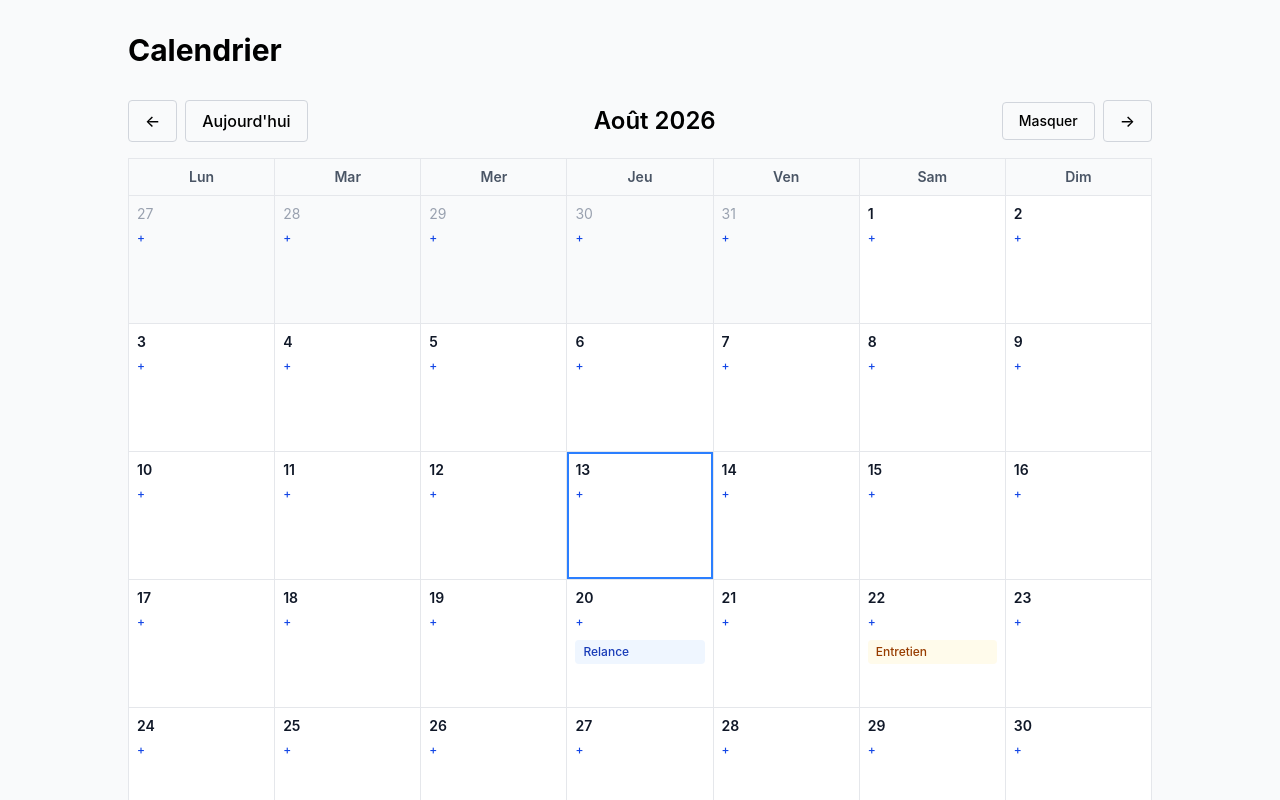
it: CalendarPage › returns to the current month and highlights today
Expected: the heading "août 2026" is shown, [594,105,716,137]
What coordinates should you click on to do the following:
click the button named "Mois suivant"
I would click on:
 (1127, 121)
Its box is [1103,100,1152,142].
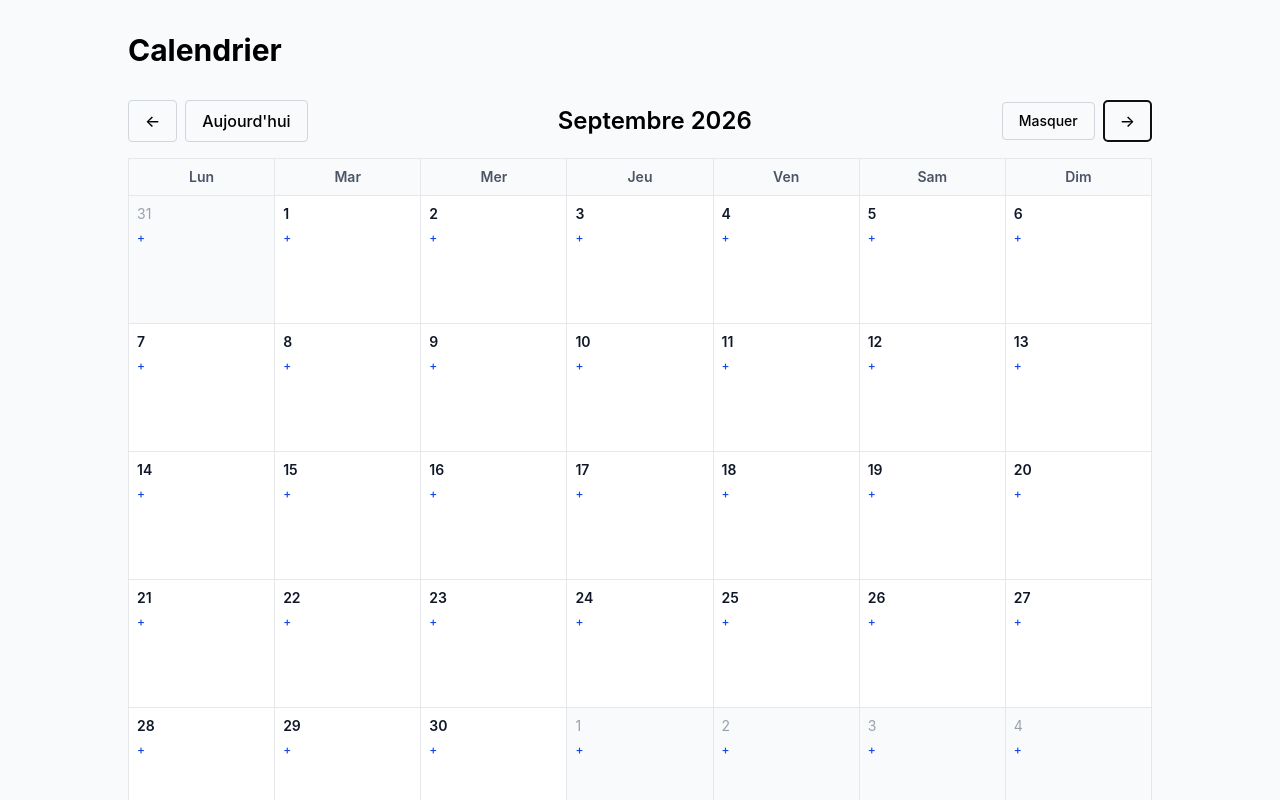
Expected: the heading "septembre 2026" is shown, [558,105,752,137]
What coordinates should you click on to do the following:
click the button "Aujourd'hui"
I would click on:
 (246, 121)
Its box is [185,100,308,142].
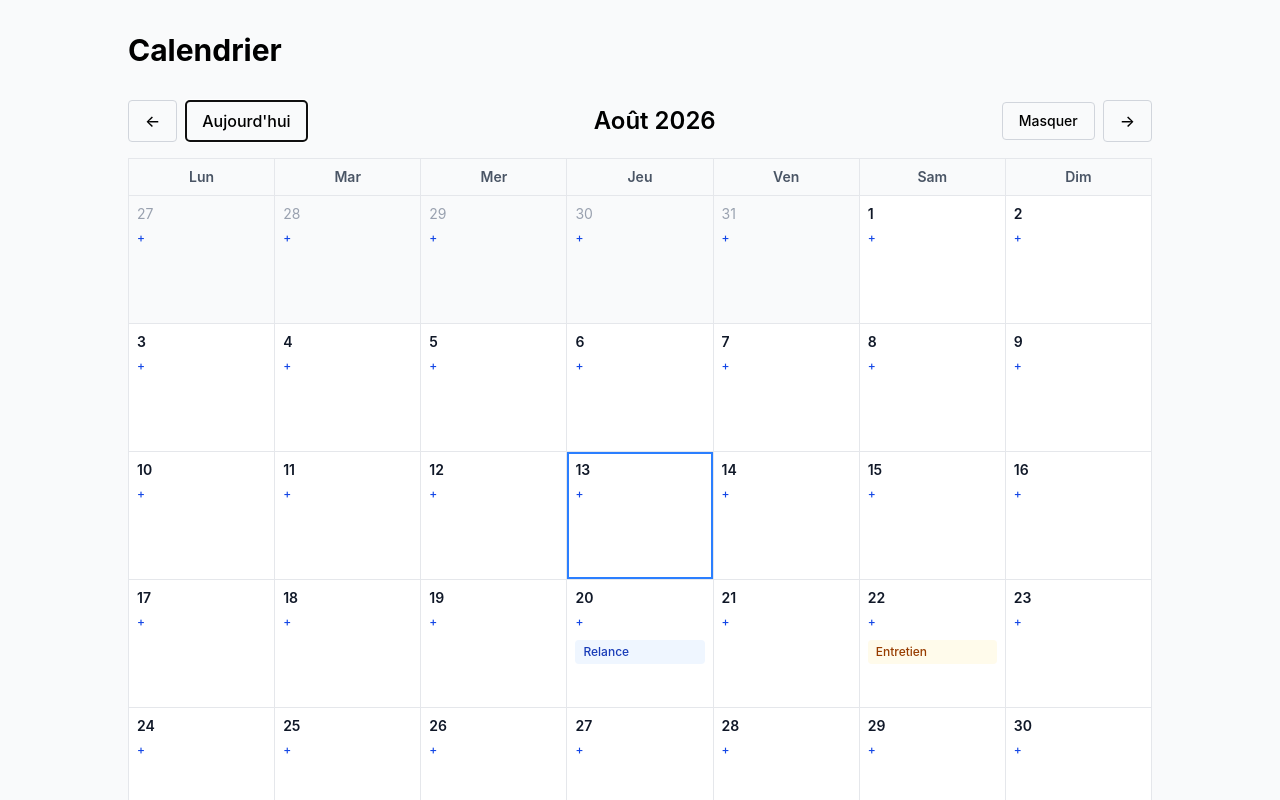
Expected: the heading "août 2026" is shown, [594,105,716,137]
Expected: the cell "13 +" is shown, [567,452,714,580]
